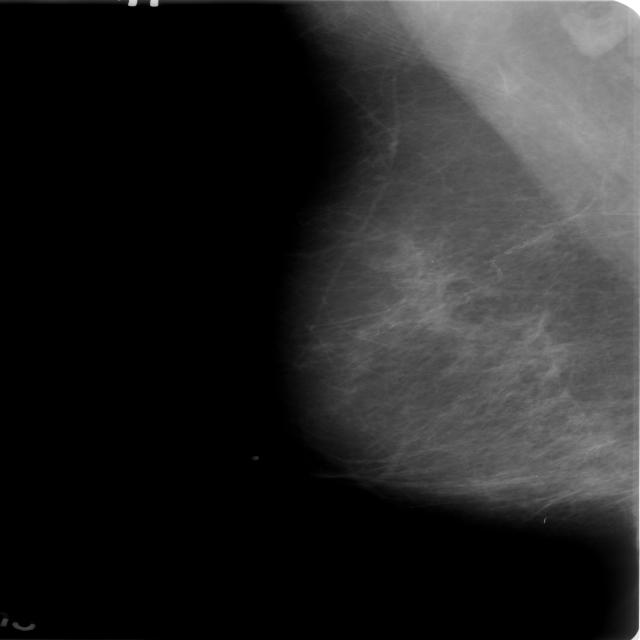normal: (265, 0, 640, 517)
